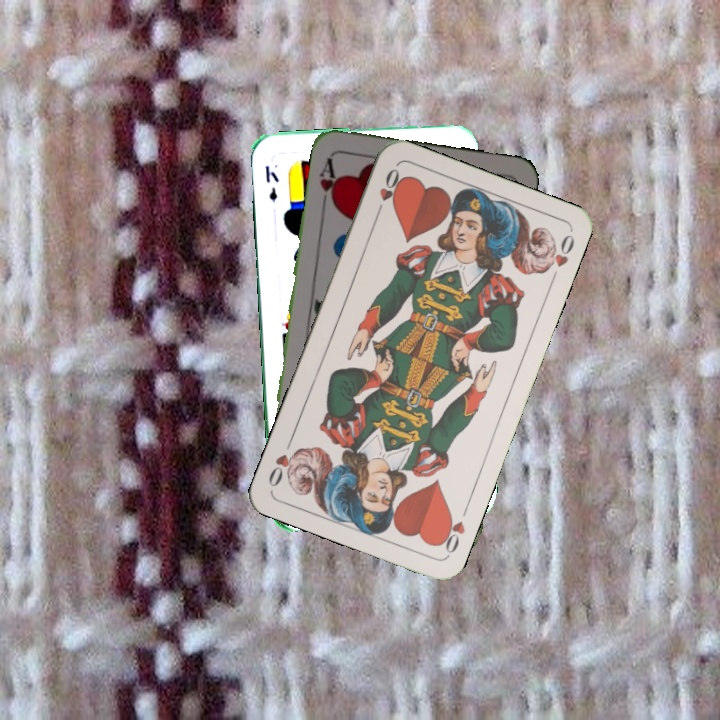EK: (261, 161, 281, 203)
HA: (315, 153, 342, 211)
HO: (434, 501, 472, 558), (371, 164, 405, 220)
